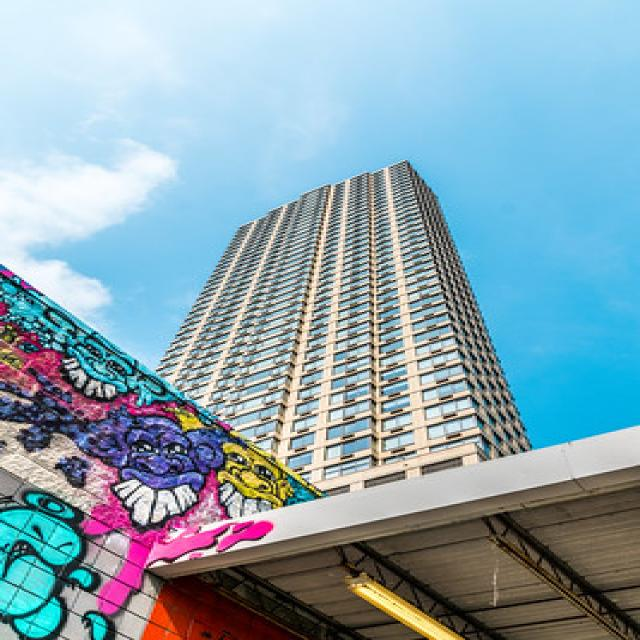building: (142, 152, 540, 469)
